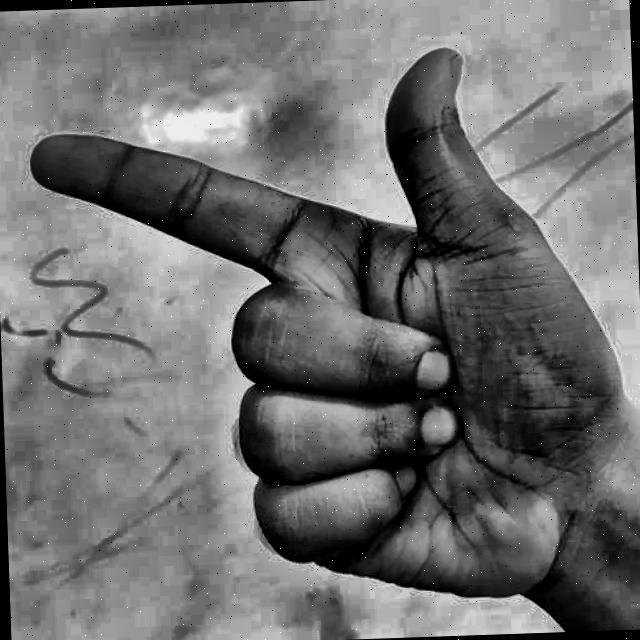Tha: (12, 11, 628, 627)
